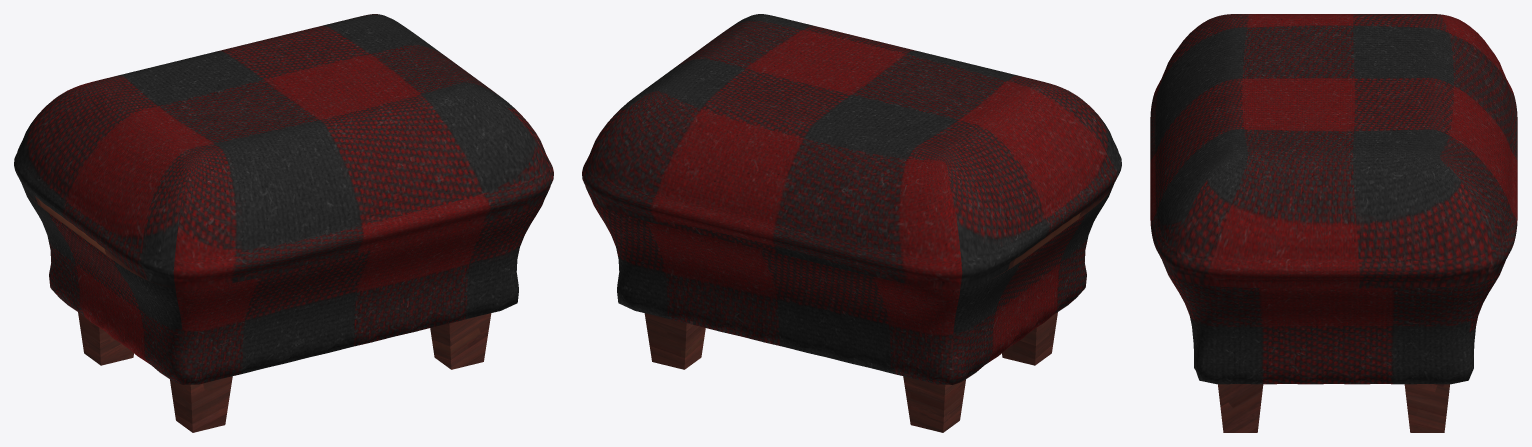
File: BabycoffinRahi.fbx
The picture shows the model from 3 angles, left to right: view 1: azimuth 30°, elevation 25°; view 2: azimuth 150°, elevation 25°; view 3: azimuth 270°, elevation 25°; orthographic projection.
Parts seen in each view (by area): view 1: Box001; view 2: Box001; view 3: Box001.
Part boxes in pixels (bbox=[...]): Box001: bbox=[14, 14, 553, 432]; Box001: bbox=[582, 14, 1121, 432]; Box001: bbox=[1150, 14, 1517, 432].
Bounding box in the file's own units: 78.96 × 49.16 × 58.96.
